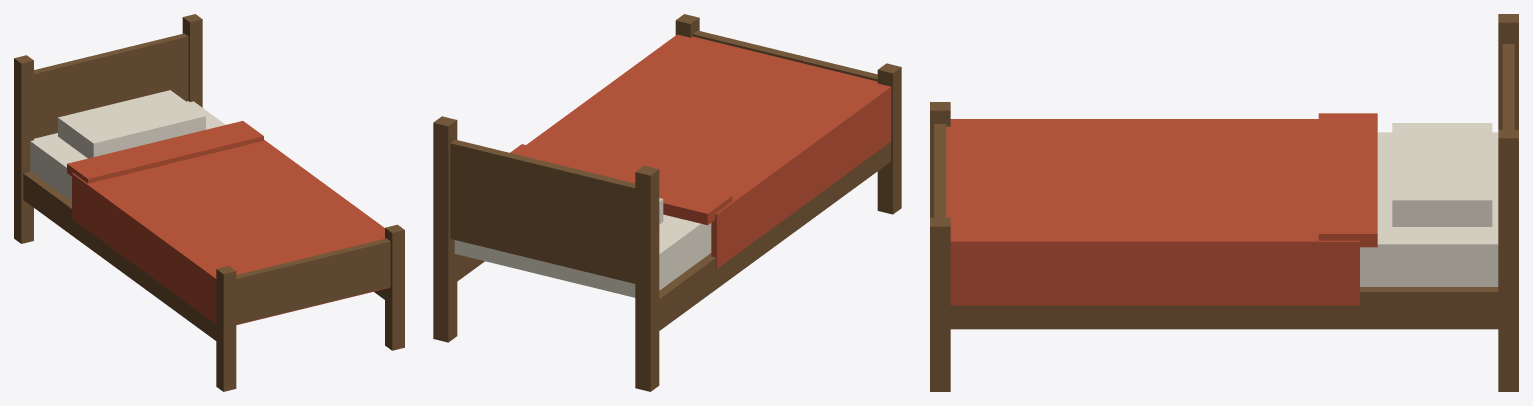
The model's file is Prop_YTM_LoftBed_LOD1.glb.
3 renders of one model, left to right at view 1: azimuth 30°, elevation 25°; view 2: azimuth 150°, elevation 25°; view 3: azimuth 270°, elevation 25°, orthographic. The views are drawn at different scales.
Parts seen in each view (by area): view 1: Prop_YTM_LoftBed; view 2: Prop_YTM_LoftBed; view 3: Prop_YTM_LoftBed.
Boxes of the visible parts, left/top/right/bottom form: Prop_YTM_LoftBed: left=14, top=14, right=404, bottom=391; Prop_YTM_LoftBed: left=433, top=14, right=901, bottom=391; Prop_YTM_LoftBed: left=930, top=14, right=1518, bottom=391.
Bounding box in the file's own units: 1 × 0.95 × 2.
